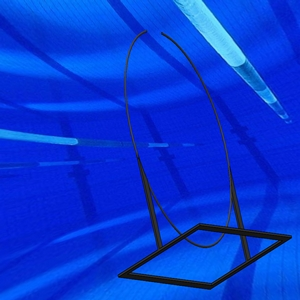circle: (117, 29, 294, 291)
